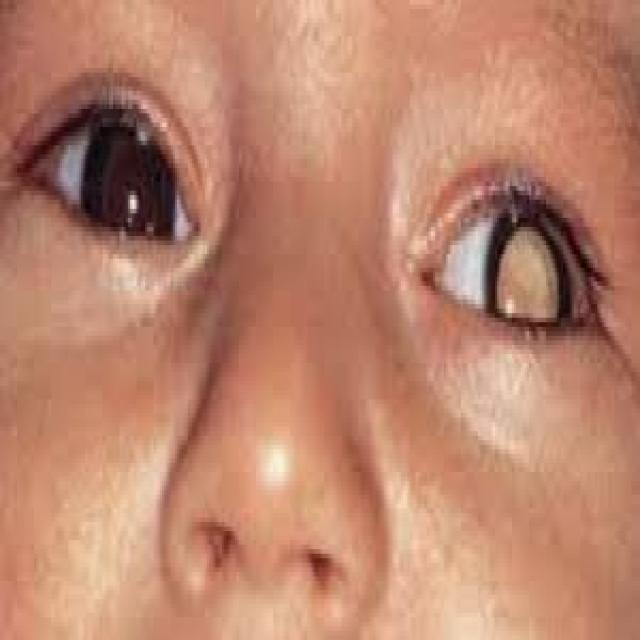reflexo-alterado: (436, 171, 596, 416)
reflexo-normal: (36, 65, 196, 285)
